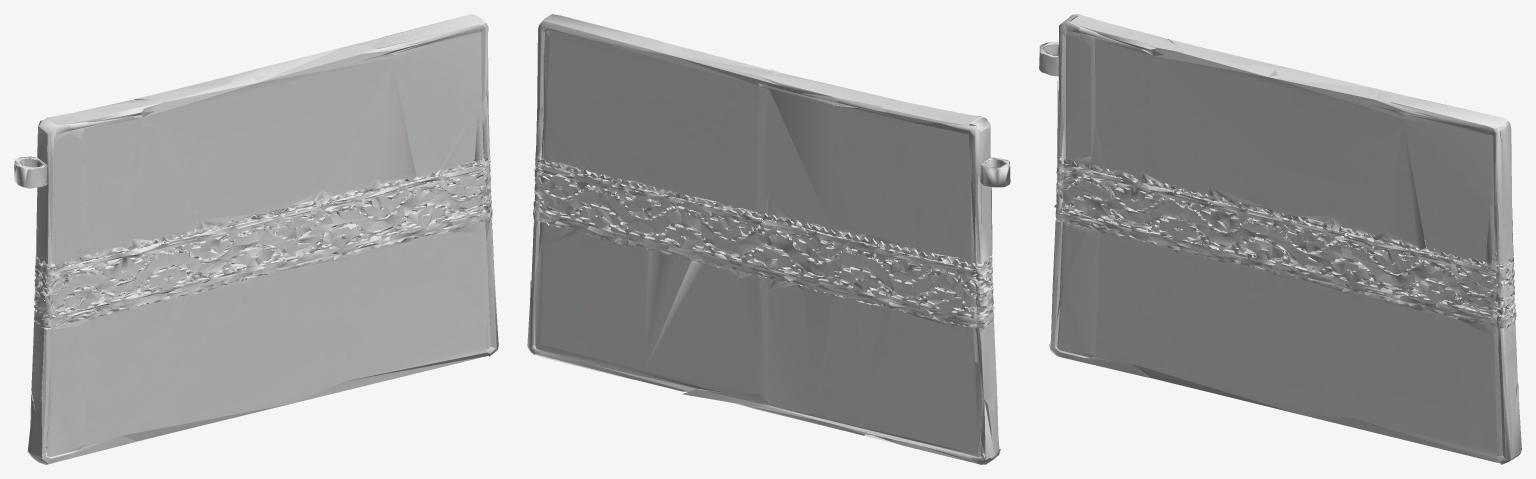
File: white-lace-table-mat.glb
3 renders of one model, left to right at view 1: azimuth 30°, elevation 25°; view 2: azimuth 150°, elevation 25°; view 3: azimuth 330°, elevation 25°, orthographic.
Parts seen in each view (by area): view 1: Mesh_0; view 2: Mesh_0; view 3: Mesh_0.
Part boxes in pixels (<box>): Mesh_0: <box>14,14,498,464</box>; Mesh_0: <box>527,14,1010,464</box>; Mesh_0: <box>1039,14,1521,464</box>.
Bounding box in the file's own units: 1.9 × 1.29 × 0.1137.
1 material, 1 textured.
